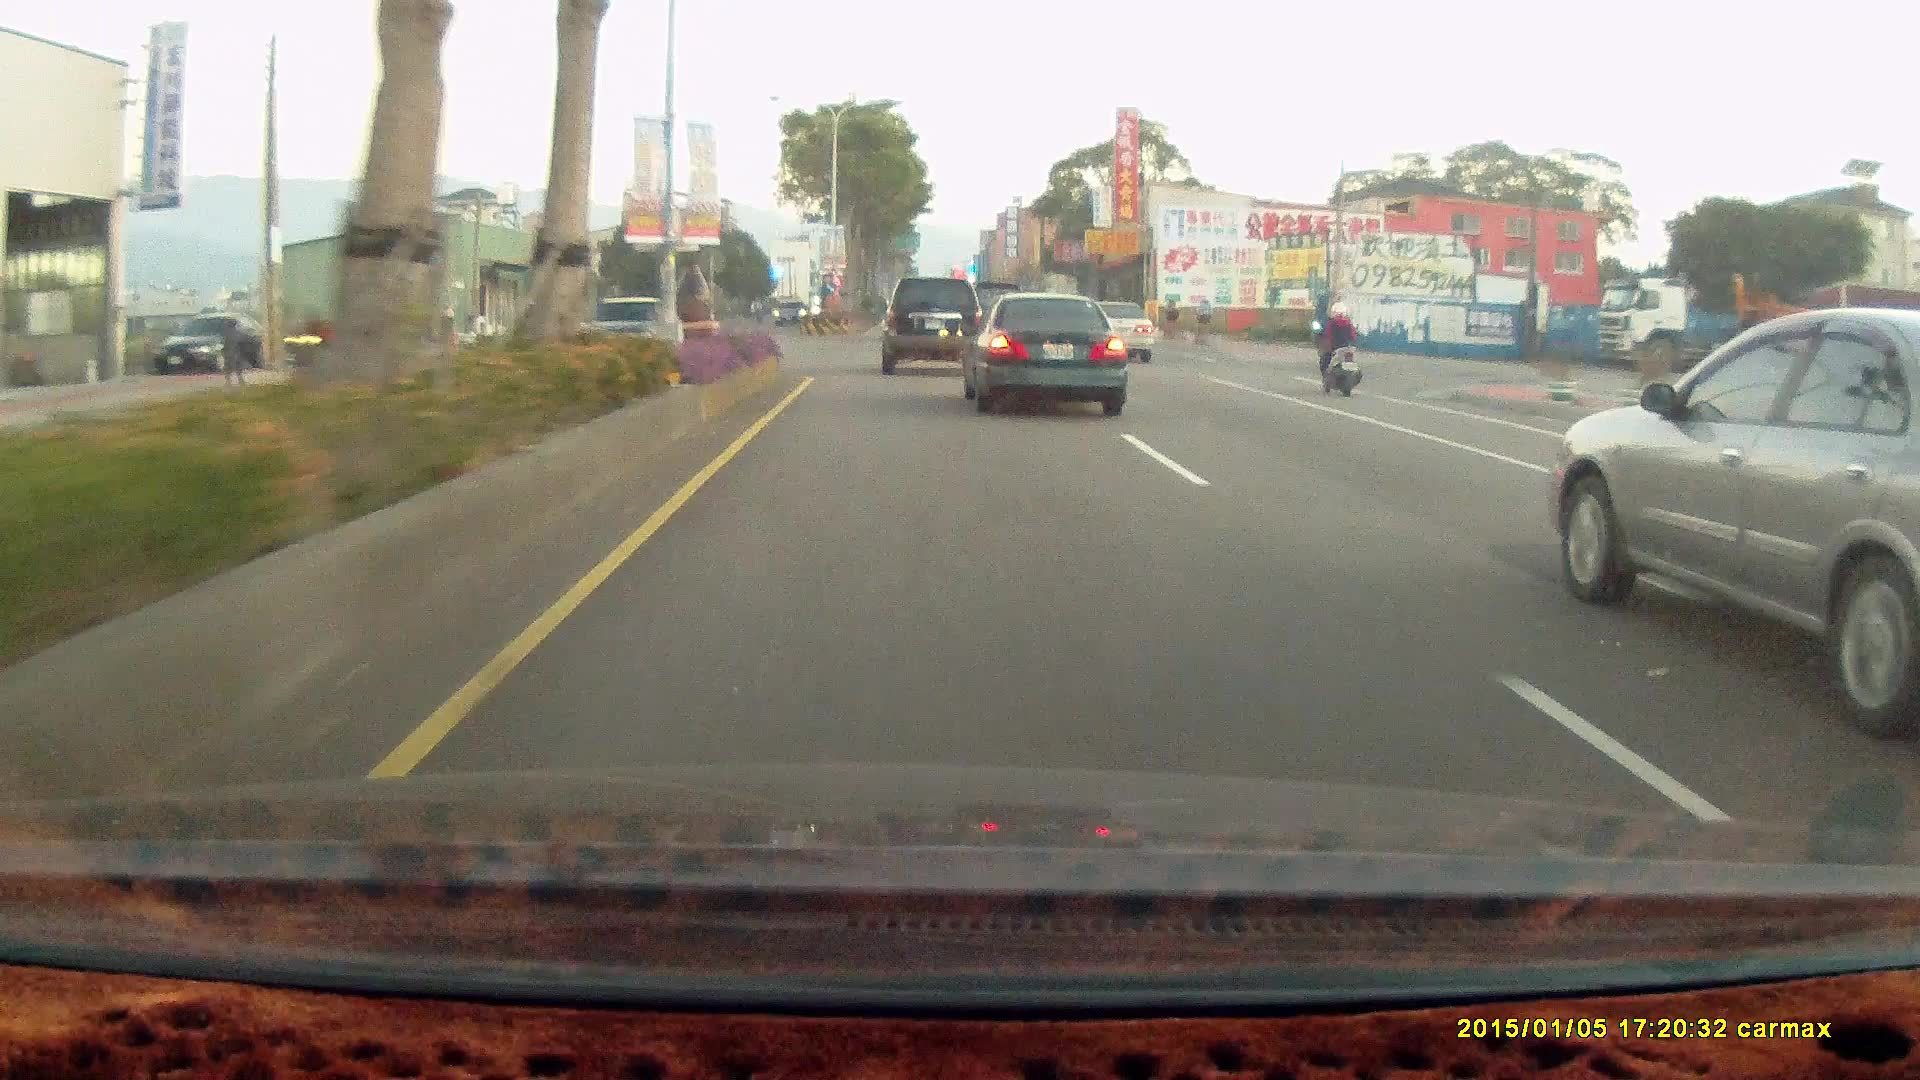pedestrian: (219, 315, 246, 385)
rider: (1302, 291, 1373, 405), (278, 305, 341, 396), (1309, 292, 1365, 389)
vehicle: (1545, 309, 1920, 743), (1594, 275, 1920, 373), (953, 289, 1122, 412), (967, 293, 1132, 414), (880, 274, 989, 374), (879, 277, 983, 377), (573, 293, 687, 371), (146, 309, 252, 375), (152, 313, 258, 375), (1074, 299, 1158, 366), (771, 300, 809, 326)
